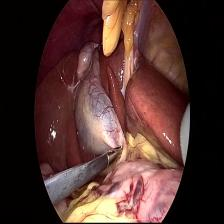Grasper: (105, 141, 124, 164)
